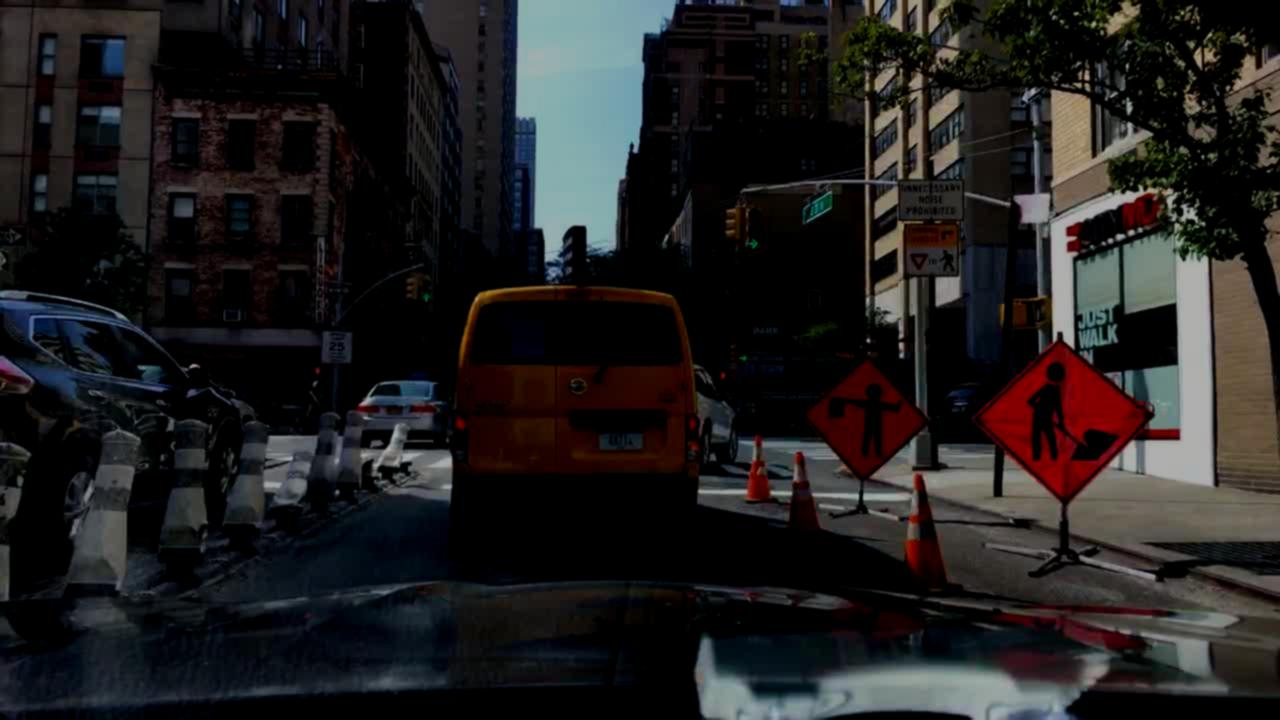Nissan: (564, 372, 591, 400)
